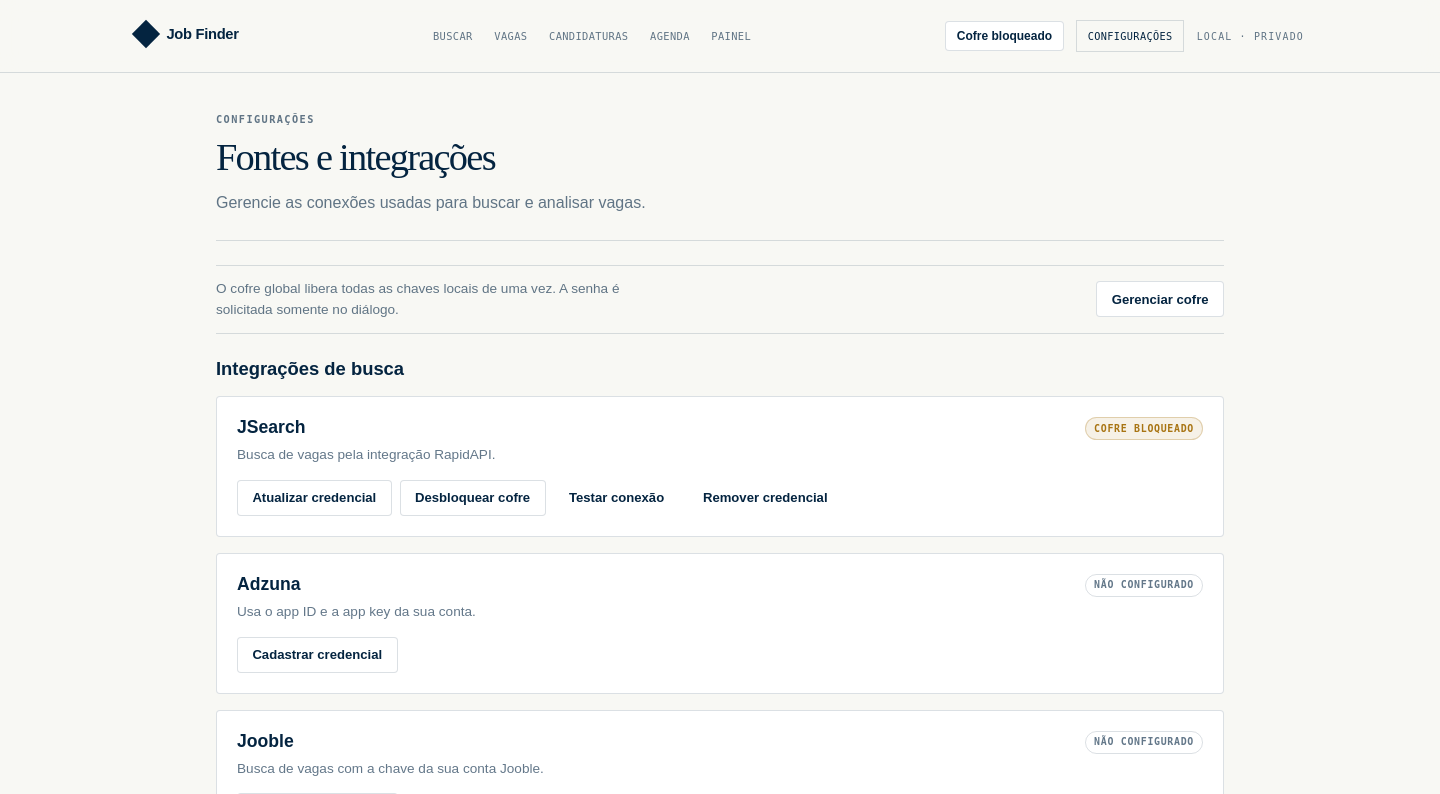
Scenario: JF-819 fontes e configurações › abre o cofre global pelo provider bloqueado
Click the button "Desbloquear cofre" at (473, 498), box [400,480,546,516]
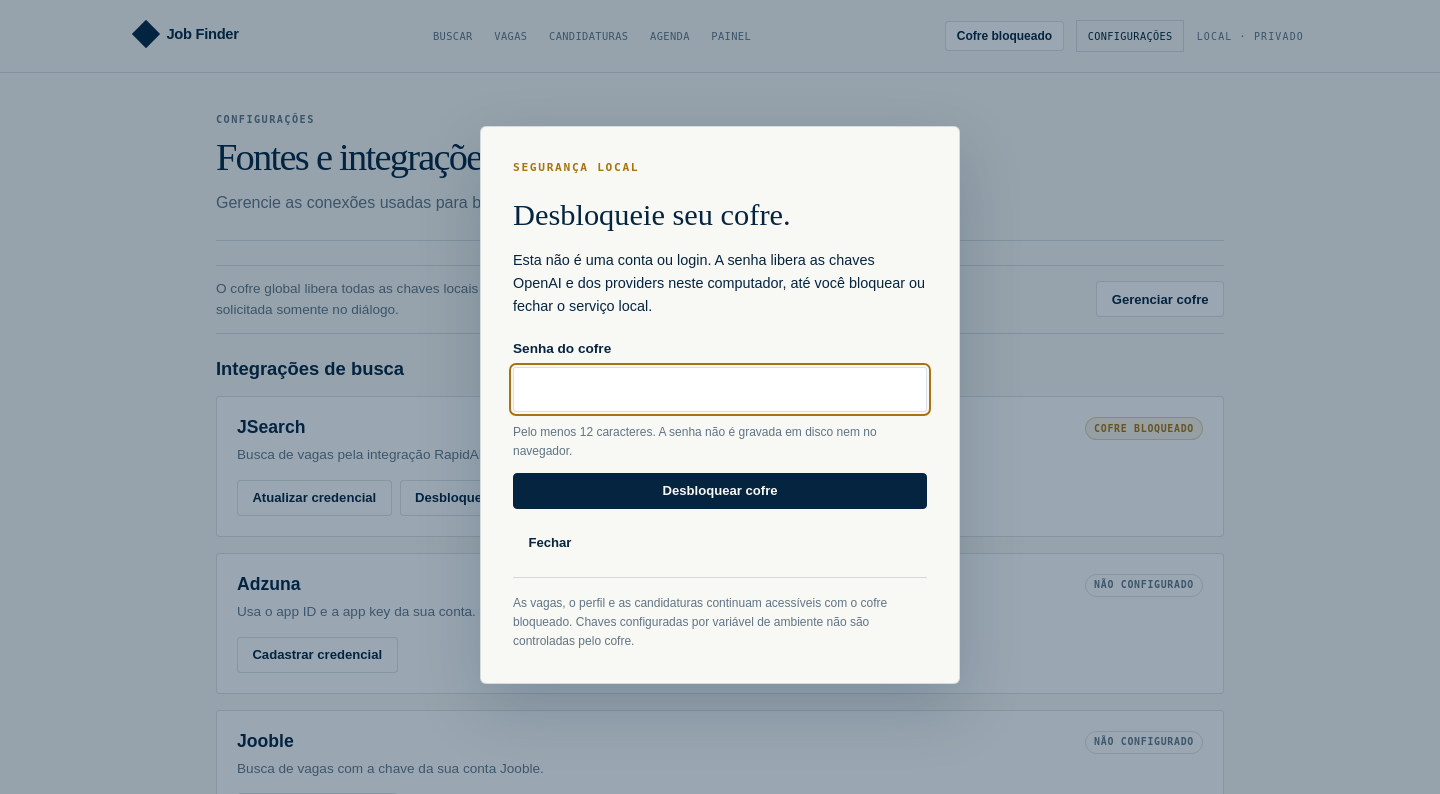
Check: the dialog is shown, box [480,126,960,684]
Check: the number of password fields labelled "Senha do cofre" is 1, box [513,367,927,412]
